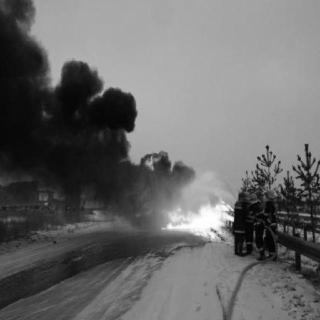Fire: (157, 191, 233, 241)
Smoke: (4, 11, 180, 217)
